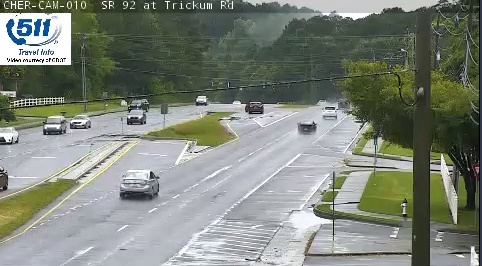car: (120, 170, 159, 195), (298, 120, 316, 135)
